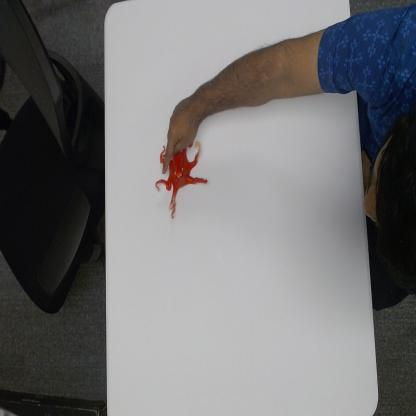Arm: (200, 12, 355, 124)
Hand: (160, 86, 200, 175)
Octopus: (154, 138, 209, 222)
